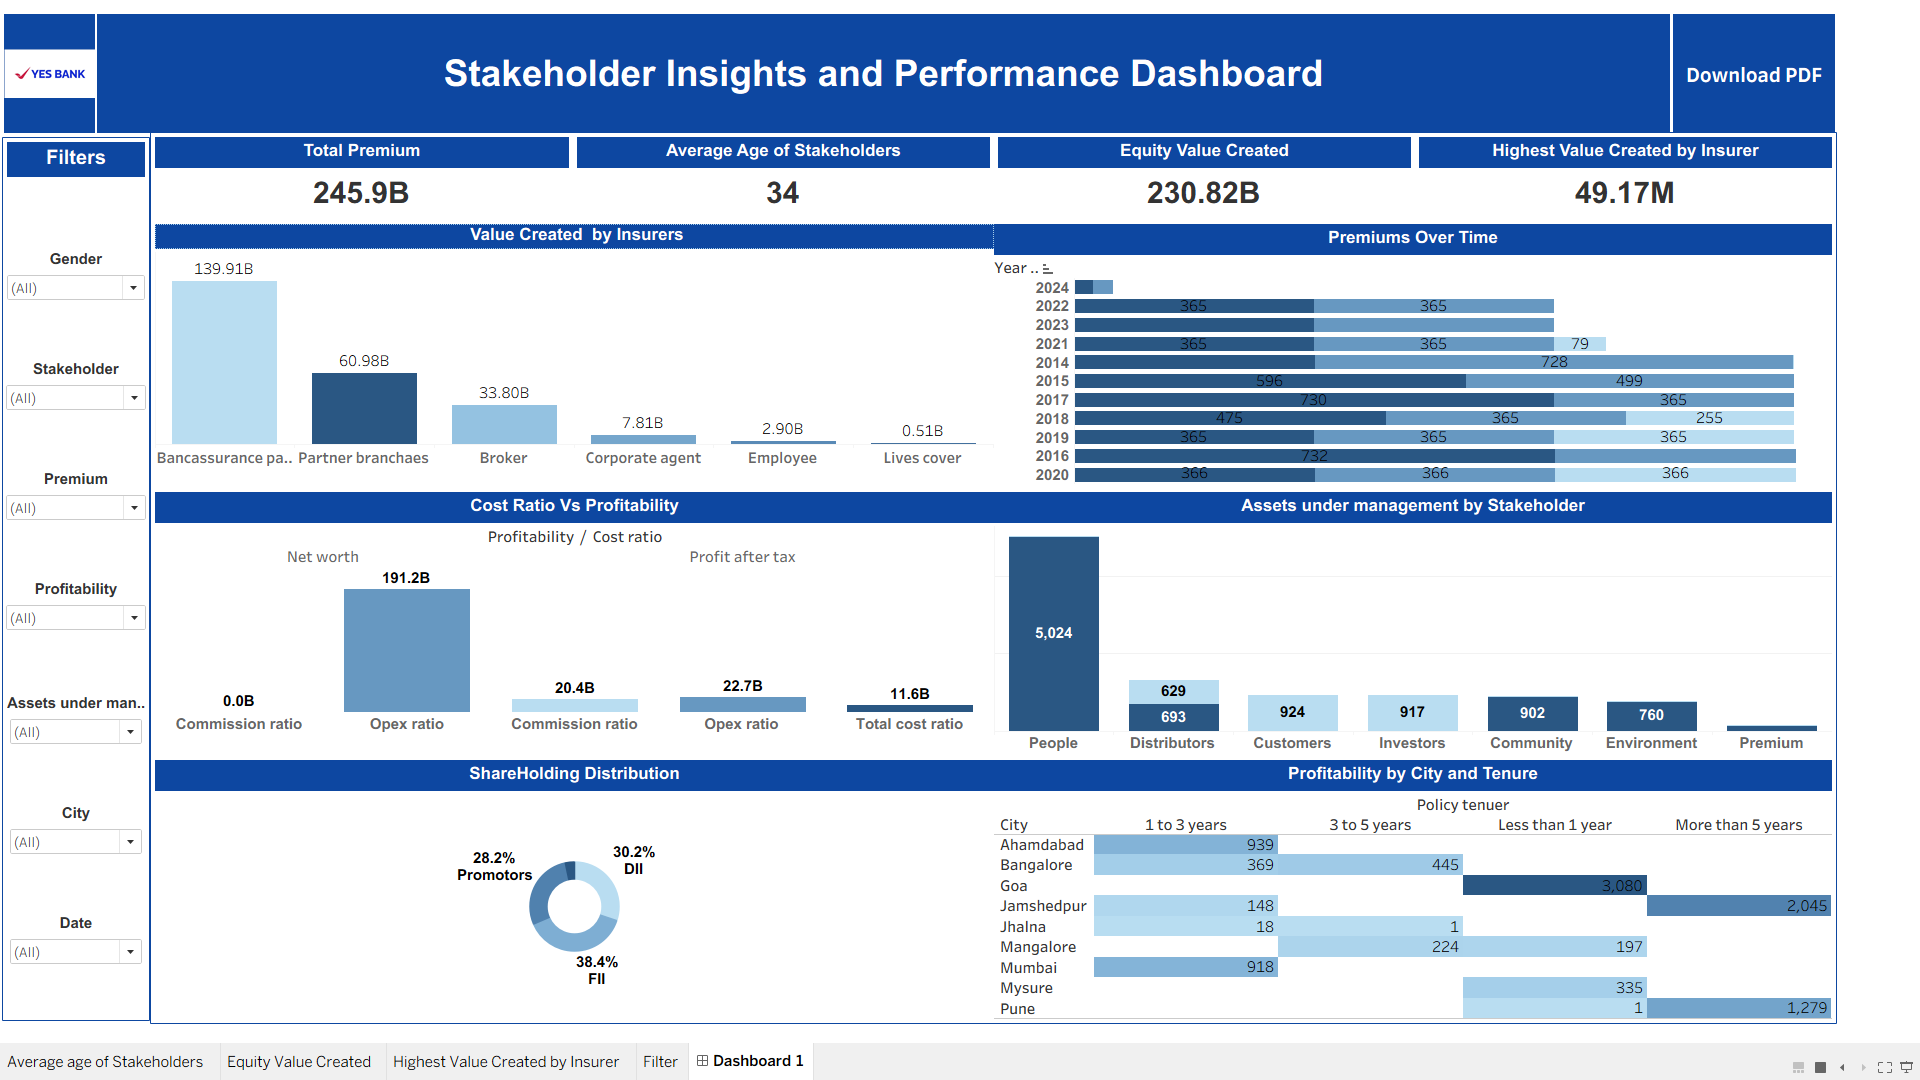

The page's visual inventory and layout, read from the dashboard file:
{"tool":"tableau","page":{"name":"Dashboard 1","canvas":[1000,1000],"units":"permille","ordinal":0},"visuals":[{"type":"image","param":"C:/Users/USER/Downloads/bank.jpg","box":[1.8,12.8,55.1,116.1]},{"type":"text","box":[56.8,12.8,802.2,116.1]},{"type":"dashboard-object","box":[859.1,12.8,97.1,116.1]},{"type":"worksheet","title":"Total Premium","mark":"Automatic","box":[78.7,127.8,219.7,101]},{"type":"worksheet","title":"Average age of Stakeholders","mark":"Automatic","box":[298.4,127.8,219.7,101]},{"type":"worksheet","title":"Equity Value Created","mark":"Automatic","box":[518.1,127.8,219.1,101]},{"type":"worksheet","title":"Highest Value Created by Insurer","mark":"Automatic","box":[737.1,127.8,219.1,101]},{"type":"worksheet","title":"Filter","mark":"Automatic","box":[1.8,132.4,75.8,105.7]},{"type":"worksheet","title":"Value created by Insurer","mark":"Automatic","rows":["Value Created"],"cols":["Insurer"],"box":[81.1,233.5,436.4,241.6]},{"type":"worksheet","title":"Premiums Over Time","mark":"Bar","rows":["Date"],"cols":["Premium 1"],"box":[517.5,233.5,436.4,241.6]},{"type":"filter","title":"Filter","param":"[federated.05cjvnv0puyauy192nj4z06se5wq].[none:Gender:nk]","box":[1.8,238.1,75.8,105.7]},{"type":"filter","title":"Filter","param":"[federated.05cjvnv0puyauy192nj4z06se5wq].[none:Stakeholder:nk]","box":[1.8,343.8,75.8,105.7]},{"type":"filter","title":"Filter","param":"[federated.05cjvnv0puyauy192nj4z06se5wq].[none:Premium 1:nk]","box":[1.8,449.5,75.8,105.7]},{"type":"worksheet","title":"Cost Ratio Vs Profitability","mark":"Automatic","rows":["Value Created"],"cols":["Profitability","Cost ratio"],"box":[81.1,484.3,436.4,241.6]},{"type":"worksheet","title":"Assets under management by Stakeholder","mark":"Automatic","rows":["Assets under management"],"cols":["Stakeholder"],"box":[517.5,484.3,436.4,241.6]},{"type":"filter","title":"Filter","param":"[federated.05cjvnv0puyauy192nj4z06se5wq].[none:Profitability:nk]","box":[1.8,555.2,75.8,105.7]},{"type":"filter","title":"Filter","param":"[federated.05cjvnv0puyauy192nj4z06se5wq].[none:Assets under management:nk]","box":[1.8,660.9,75.8,105.7]},{"type":"worksheet","title":"ShareHolding Distribution","mark":"Pie","rows":["Calculation_0697708143333376","Calculation_0697708143333376"],"box":[81.1,735.2,436.4,240.4]},{"type":"worksheet","title":"Profitability by City and Tenure","mark":"Square","rows":["City"],"cols":["Policy tenuer"],"box":[517.5,735.2,436.4,240.4]},{"type":"filter","title":"Filter","param":"[federated.05cjvnv0puyauy192nj4z06se5wq].[none:City:nk]","box":[1.8,766.6,75.8,105.7]},{"type":"filter","title":"Filter","param":"[federated.05cjvnv0puyauy192nj4z06se5wq].[my:Date:ok]","box":[1.8,872.2,75.8,105.7]}]}

Visuals, with their boxes on the dashboard's canvas, which has no fixed pixel size, in thousandths of its width and height (x1, y1, x2, y2). These are canvas units, not pixel positions in the 1920x1080 screenshot, which may show the page scaled, cropped or inside an application window:
image: select_region(2, 13, 57, 129)
text: select_region(57, 13, 859, 129)
dashboard-object: select_region(859, 13, 956, 129)
"Total Premium" worksheet: select_region(79, 128, 298, 229)
"Average age of Stakeholders" worksheet: select_region(298, 128, 518, 229)
"Equity Value Created" worksheet: select_region(518, 128, 737, 229)
"Highest Value Created by Insurer" worksheet: select_region(737, 128, 956, 229)
"Filter" worksheet: select_region(2, 132, 78, 238)
"Value created by Insurer" worksheet: select_region(81, 234, 518, 475)
"Premiums Over Time" worksheet (Bar marks): select_region(518, 234, 954, 475)
"Filter" filter: select_region(2, 238, 78, 344)
"Filter" filter: select_region(2, 344, 78, 450)
"Filter" filter: select_region(2, 450, 78, 555)
"Cost Ratio Vs Profitability" worksheet: select_region(81, 484, 518, 726)
"Assets under management by Stakeholder" worksheet: select_region(518, 484, 954, 726)
"Filter" filter: select_region(2, 555, 78, 661)
"Filter" filter: select_region(2, 661, 78, 767)
"ShareHolding Distribution" worksheet (Pie marks): select_region(81, 735, 518, 976)
"Profitability by City and Tenure" worksheet (Square marks): select_region(518, 735, 954, 976)
"Filter" filter: select_region(2, 767, 78, 872)
"Filter" filter: select_region(2, 872, 78, 978)
